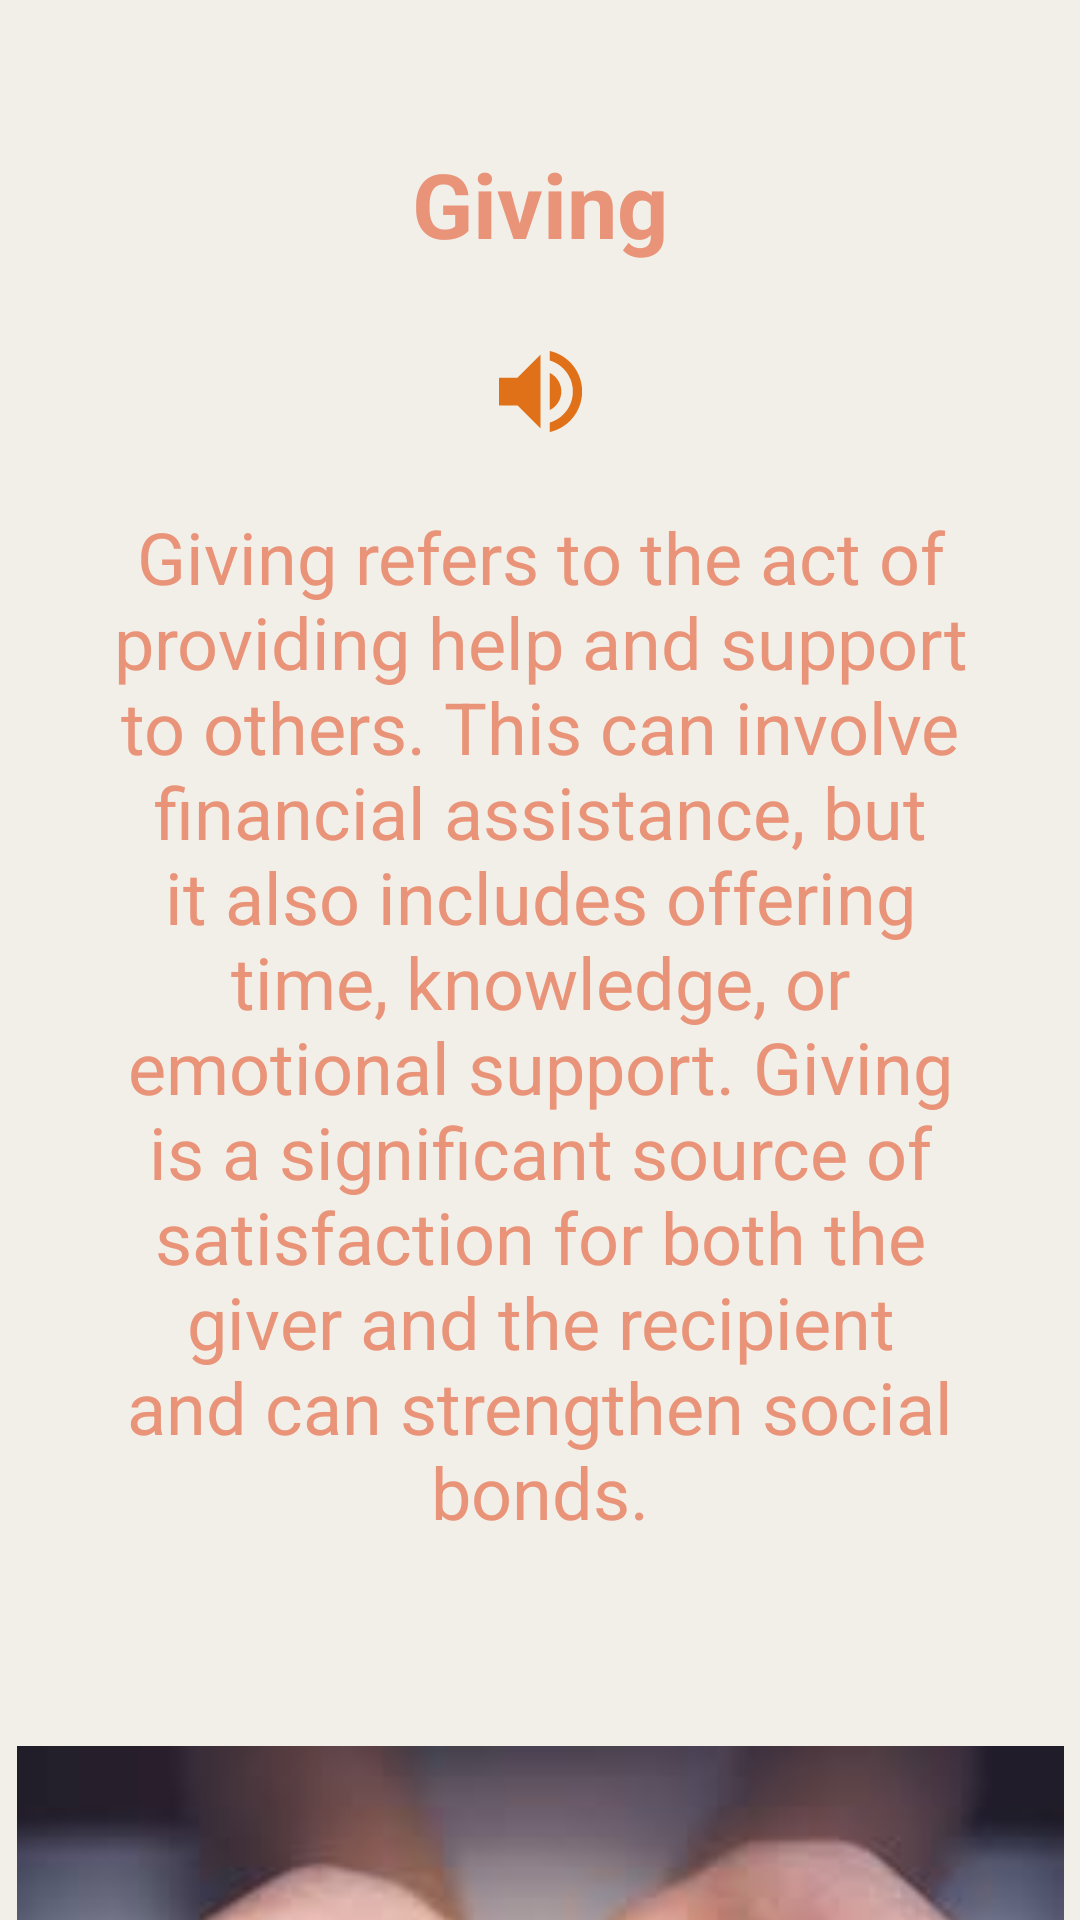

Screen size 1080px x 1920px. Icon name, then its center in pixels as (x=x, y=y):
volume up: (x=540, y=391)
